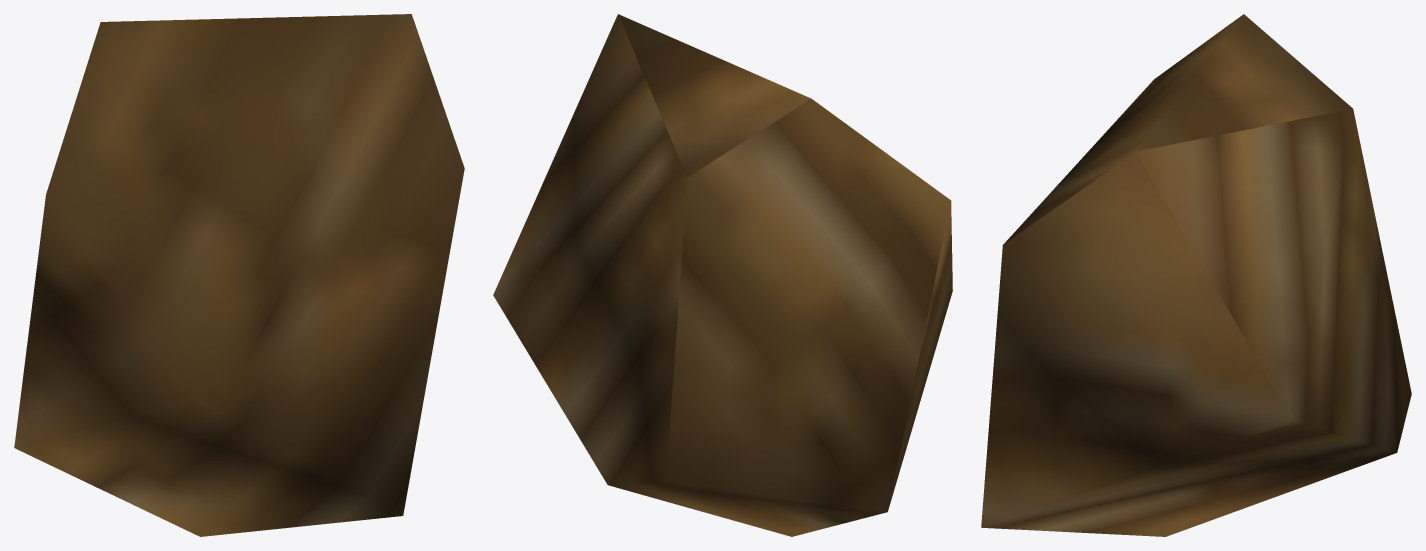
File: SM_Rock.fbx
3 renders of one model, left to right at view 1: azimuth 30°, elevation 25°; view 2: azimuth 150°, elevation 25°; view 3: azimuth 270°, elevation 25°, orthographic. The views are drawn at different scales.
Parts seen in each view (by area): view 1: SM_Rock; view 2: SM_Rock; view 3: SM_Rock.
Boxes of the visible parts, x1=… form: SM_Rock: x1=14, y1=14, x2=464, y2=536; SM_Rock: x1=493, y1=14, x2=952, y2=536; SM_Rock: x1=981, y1=14, x2=1411, y2=536.
Bounding box in the file's own units: 185 × 217 × 172.
